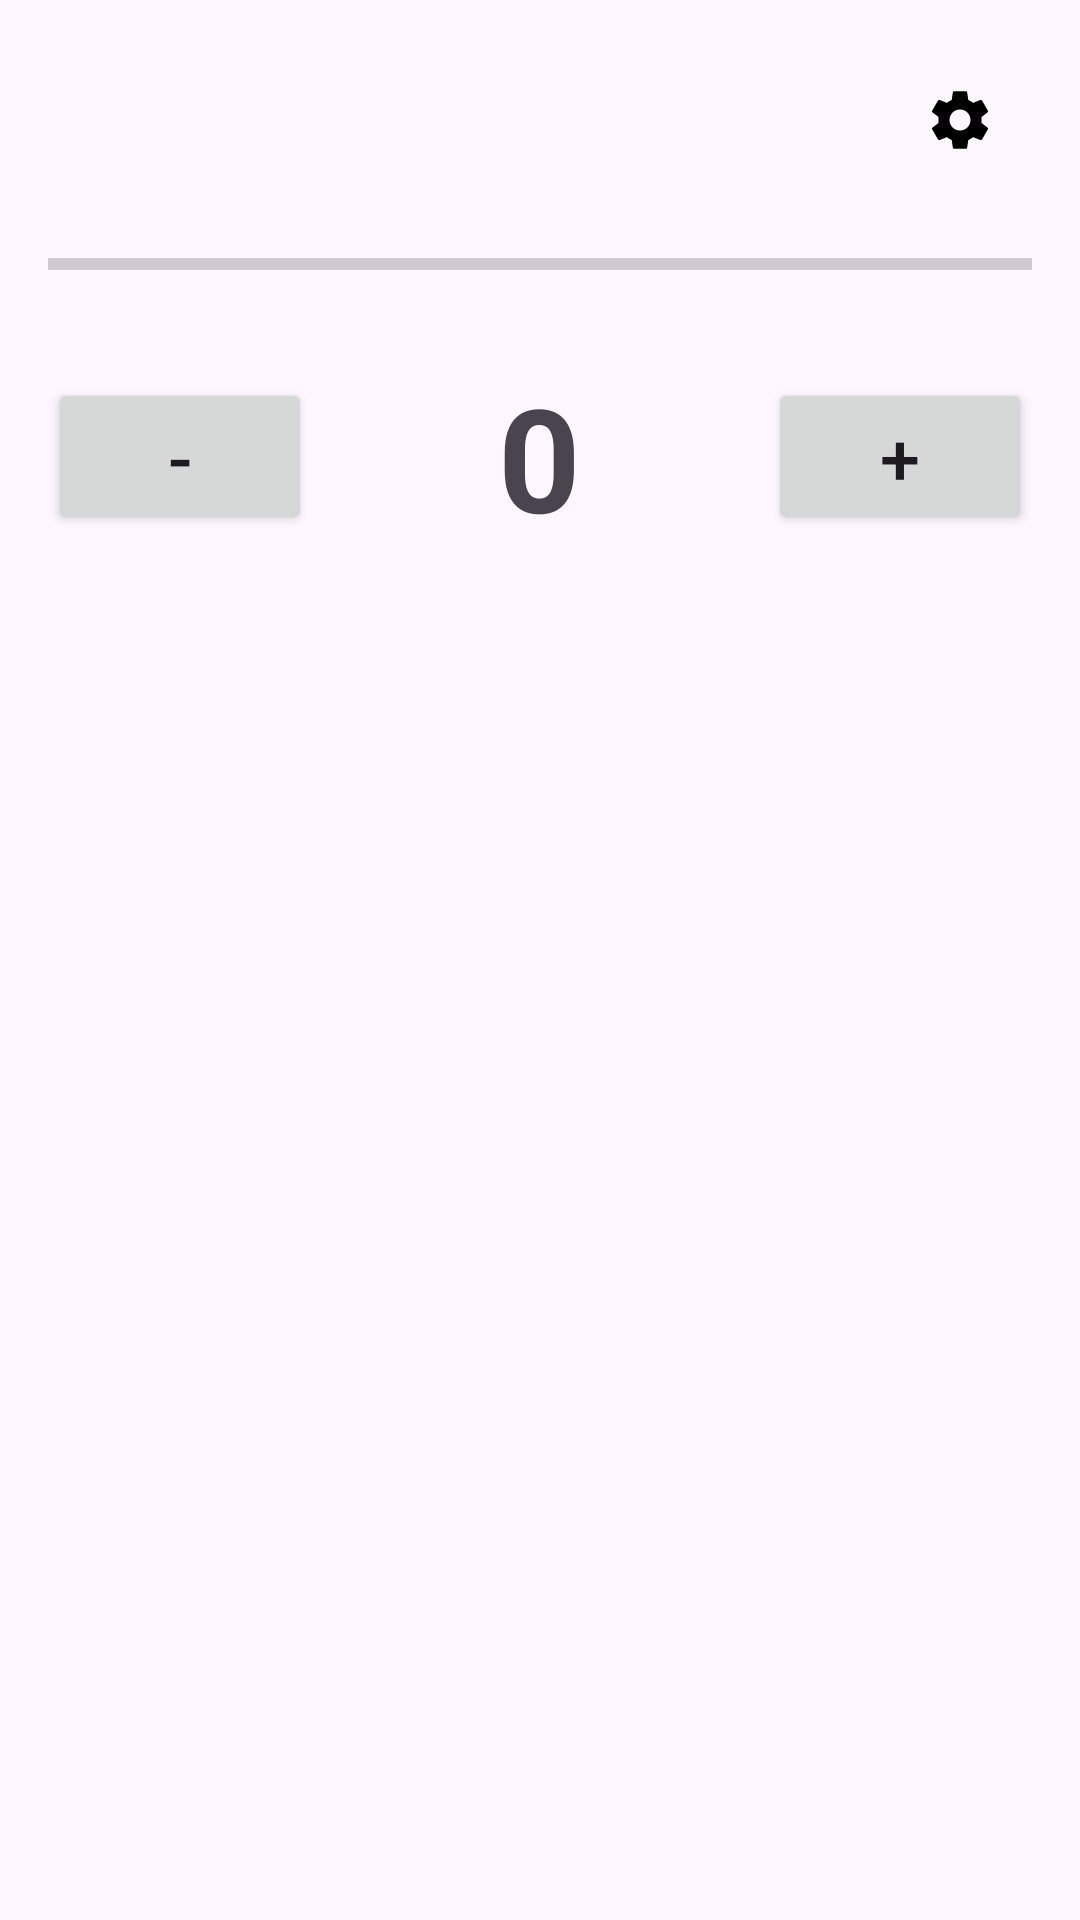

Where to tap for icons on this 1080w x 1920h app screen, as [x,y]:
Settings: [960,120]
